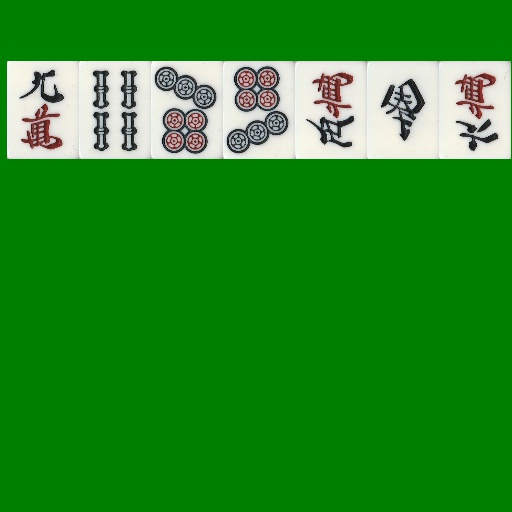4s: (79, 61, 151, 159)
5m: (295, 61, 367, 159)
6m: (439, 61, 511, 159)
7p: (151, 61, 223, 159), (223, 61, 295, 159)
9m: (7, 61, 79, 159)
south: (367, 61, 439, 159)
